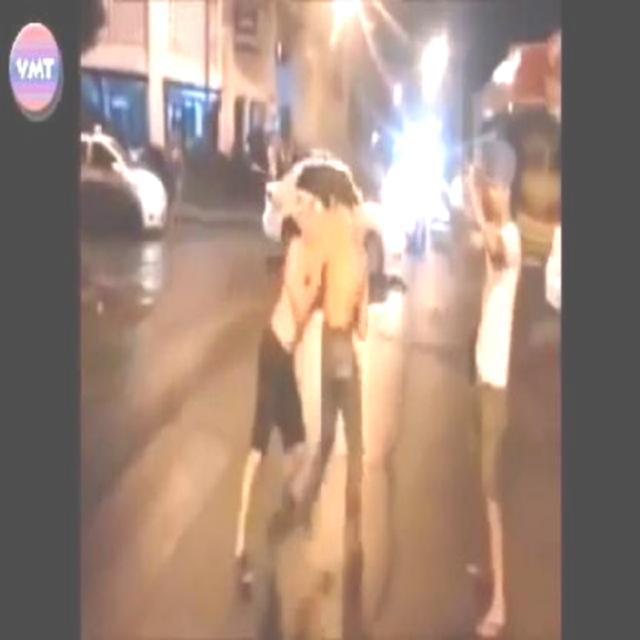fight: (239, 186, 379, 640)
